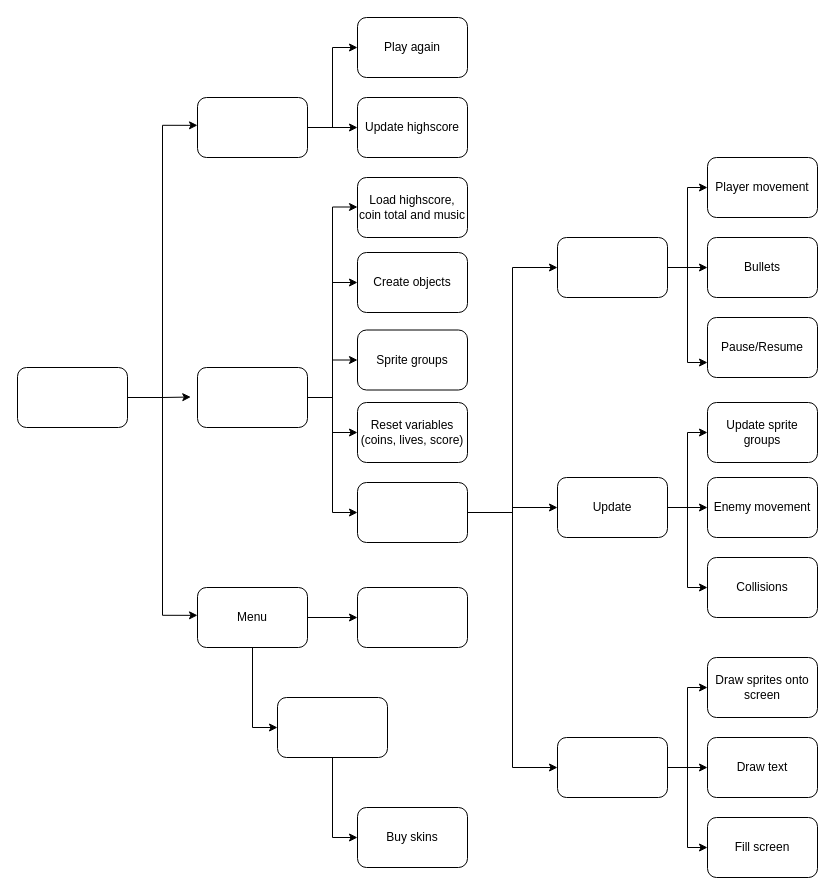
The diagram is 835 pixels wide and 895 high, and some of its shapes have lost their labels. Here are the shapes that lost their labels. From the top down, the box of each, then its label:
(196, 96, 308, 158): Game over
(556, 236, 668, 298): Keyboard events
(16, 366, 128, 428): Game
(196, 366, 308, 428): New game
(356, 482, 468, 542): Run game
(356, 586, 468, 648): Play game
(276, 696, 388, 758): Shop
(556, 736, 668, 798): Draw
